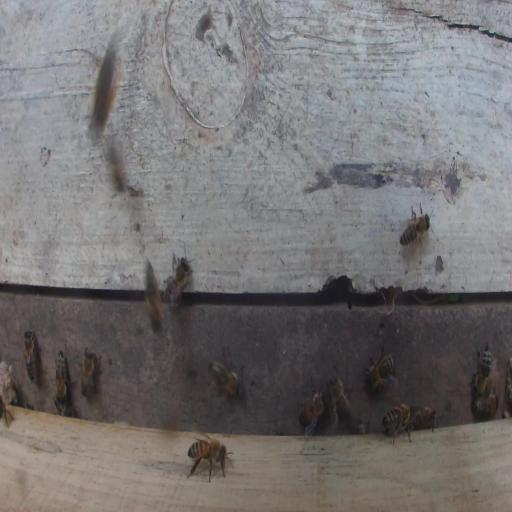bee: (86, 42, 125, 134), (187, 437, 234, 482), (163, 252, 194, 308), (365, 345, 396, 392), (399, 202, 431, 247), (328, 367, 351, 428), (298, 386, 326, 436), (145, 258, 164, 331), (208, 360, 244, 397), (381, 403, 412, 445), (21, 327, 43, 386), (470, 344, 492, 393), (81, 348, 103, 396), (54, 351, 67, 414), (108, 146, 124, 189), (473, 391, 499, 417), (411, 406, 437, 432)
